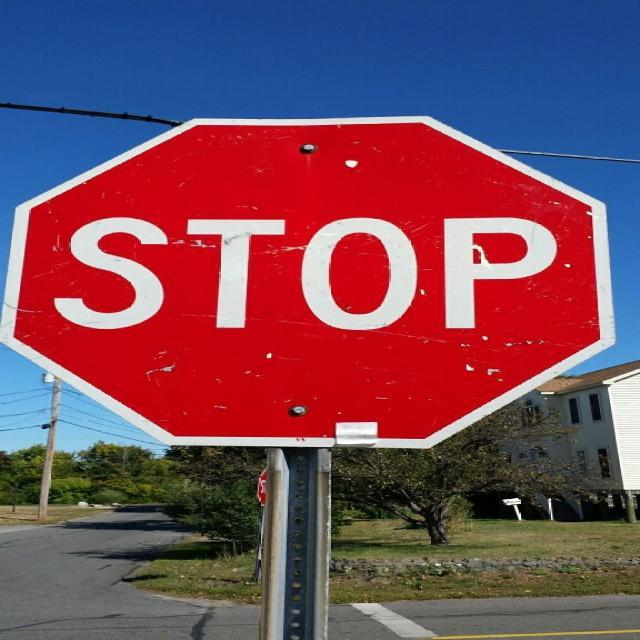stop: (0, 113, 617, 450)
